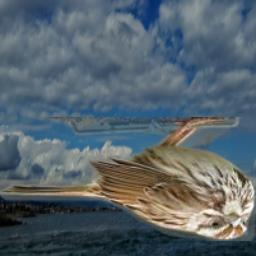Sparrow: (0, 117, 256, 241)
